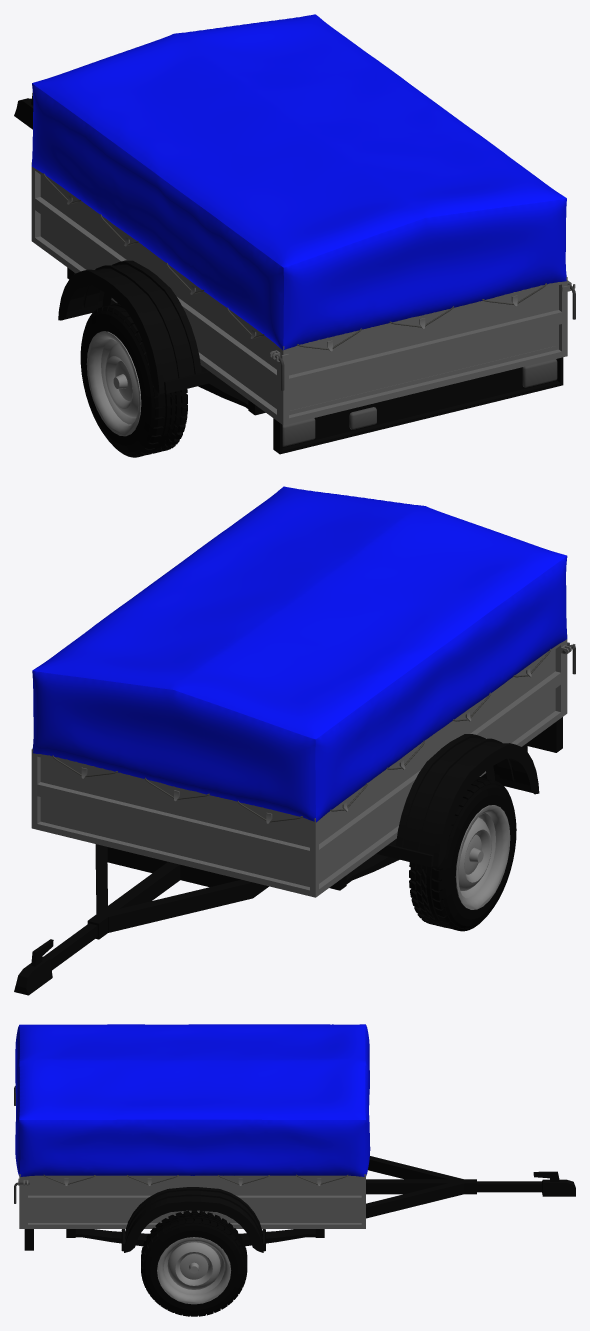
Rendered from Trailer.fbx.
3 renders of one model, top to bottom at view 1: azimuth 30°, elevation 25°; view 2: azimuth 150°, elevation 25°; view 3: azimuth 270°, elevation 25°, orthographic. The views are drawn at different scales.
Visible parts, largest first — view 1: Box001, door, box, r001, fly, rama, net, flare_r, flare_l, ressor; view 2: Box001, box, rama, r001, fly, net, ressor; view 3: Box001, box, r, rama, fly, ressor.
Boxes of the visible parts, x1=… form: Box001: x1=31, y1=14, x2=566, y2=350; door: x1=276, y1=277, x2=575, y2=425; box: x1=31, y1=162, x2=571, y2=422; r001: x1=80, y1=303, x2=187, y2=457; fly: x1=58, y1=260, x2=221, y2=394; rama: x1=14, y1=92, x2=563, y2=454; net: x1=43, y1=173, x2=546, y2=350; flare_r: x1=522, y1=359, x2=557, y2=387; flare_l: x1=282, y1=418, x2=315, y2=446; ressor: x1=198, y1=365, x2=248, y2=408; Box001: x1=32, y1=486, x2=567, y2=822; box: x1=31, y1=641, x2=571, y2=897; rama: x1=14, y1=717, x2=562, y2=995; r001: x1=409, y1=777, x2=516, y2=931; fly: x1=376, y1=734, x2=539, y2=867; net: x1=52, y1=649, x2=550, y2=822; ressor: x1=346, y1=839, x2=399, y2=883; Box001: x1=15, y1=1024, x2=370, y2=1176; box: x1=23, y1=1174, x2=365, y2=1228; r: x1=141, y1=1210, x2=247, y2=1316; rama: x1=24, y1=1156, x2=575, y2=1250; fly: x1=121, y1=1187, x2=265, y2=1252; ressor: x1=75, y1=1229, x2=315, y2=1246.
Bounding box in the file's own units: 66.04 × 47.98 × 123.
